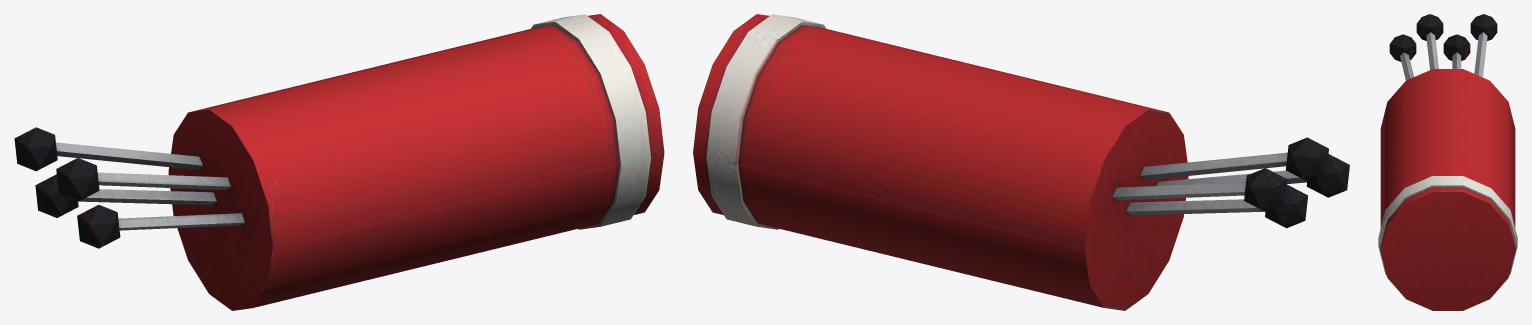
Rendered from bolsa_golf.glb.
3 renders of one model, left to right at view 1: azimuth 30°, elevation 25°; view 2: azimuth 150°, elevation 25°; view 3: azimuth 270°, elevation 25°, orthographic. The views are drawn at different scales.
Visible parts, largest first — view 1: bolsa_golf; view 2: bolsa_golf; view 3: bolsa_golf.
Boxes of the visible parts, x1,y1,x2,y2 form: bolsa_golf: (14, 14, 664, 310); bolsa_golf: (693, 14, 1349, 310); bolsa_golf: (1378, 14, 1517, 310).
Bounding box in the file's own units: 1.88 × 0.6222 × 0.62.
Materials: 1 (1 with a texture image).
